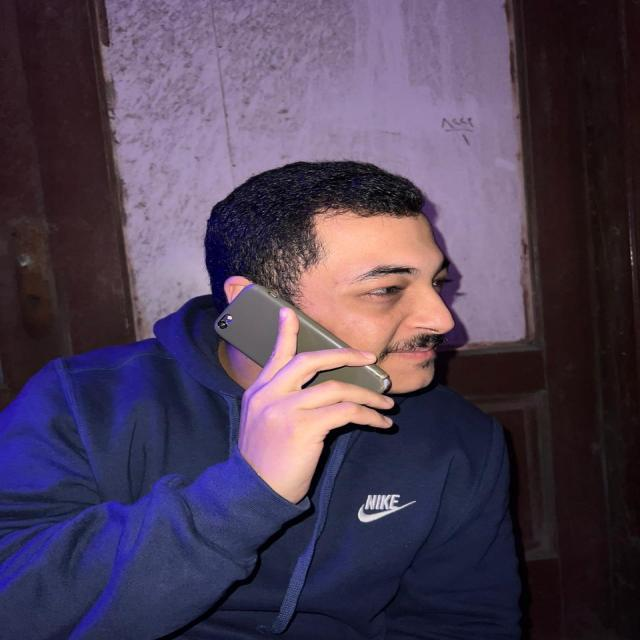phone: (213, 280, 388, 432)
